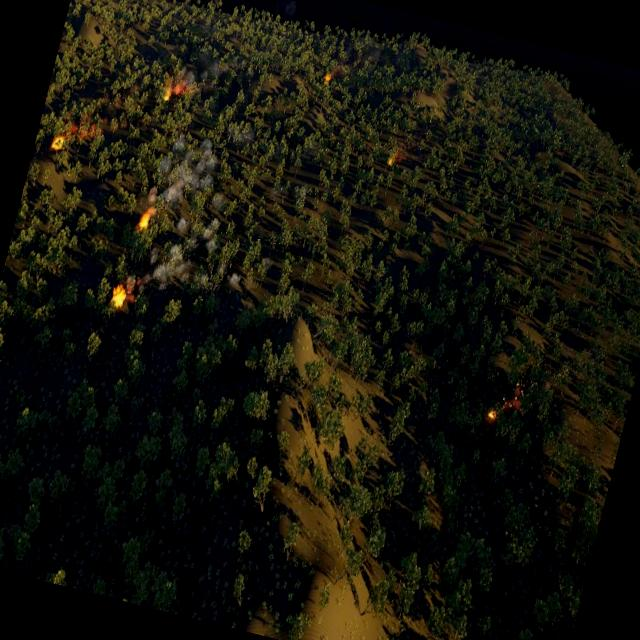fire: (164, 77, 188, 106), (110, 284, 132, 312), (136, 207, 152, 233), (49, 132, 64, 152), (485, 408, 497, 420), (324, 70, 332, 83), (387, 156, 394, 165)
smoke: (140, 125, 242, 248), (124, 234, 248, 318), (62, 86, 122, 154), (173, 54, 220, 100), (502, 382, 525, 413)
